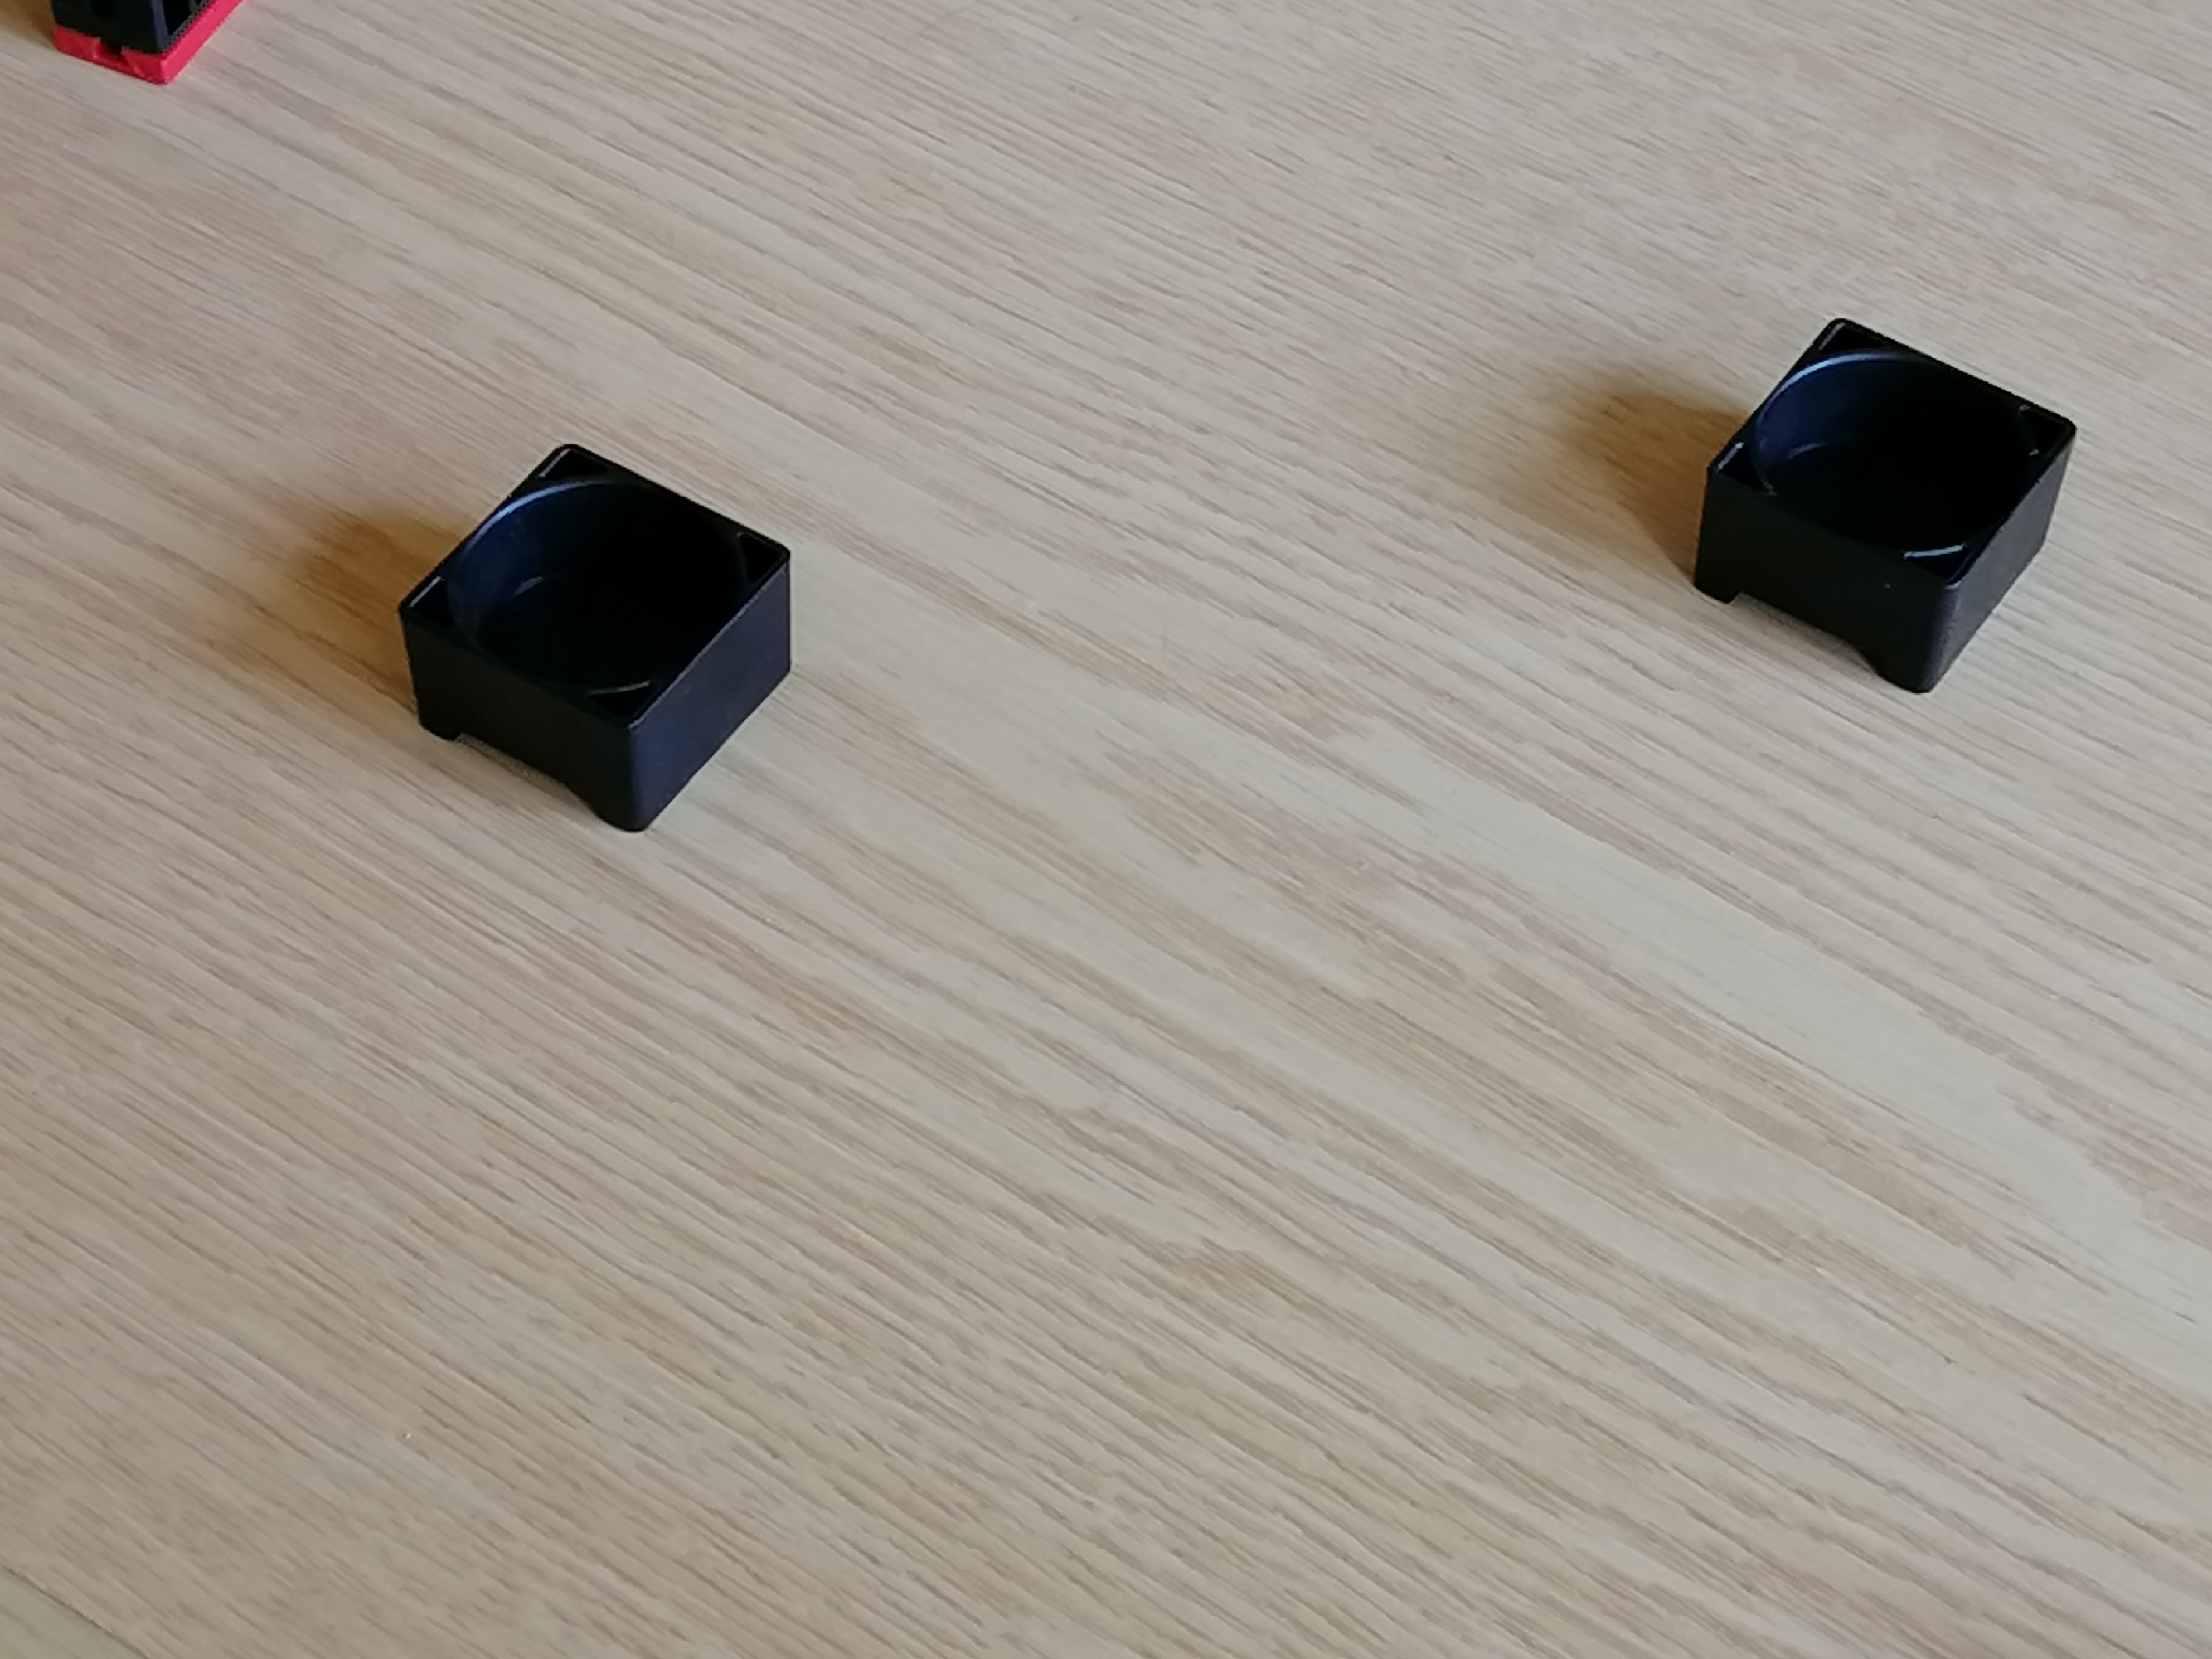Behaelter: (404, 439, 803, 831), (1693, 300, 2080, 701)
